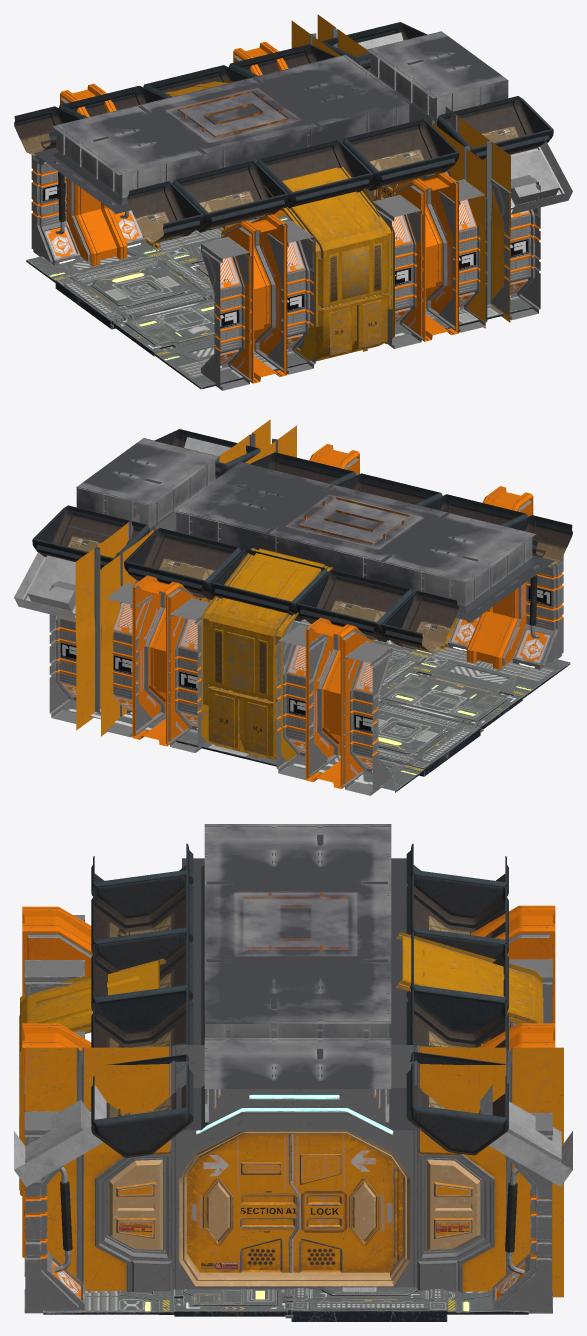
File: compressed-mint.glb
3 renders of one model, top to bottom at view 1: azimuth 30°, elevation 25°; view 2: azimuth 150°, elevation 25°; view 3: azimuth 270°, elevation 25°, orthographic. The views are drawn at different scales.
Visible parts, largest first — view 1: plane, wall_left_01, pCube77, pCube87, pCube86, pCube57, Prop_41, Prop_40, pPlane3, body, pCube56.001, Prop_42 (+29 smaller); view 2: plane, wall_right, pCube77, pCube91, pCube92, body, pPlane3, pCube45, pCube6, Prop_41.001, Prop_40.001, body1 (+29 smaller); view 3: body, plane, door_right, door_right1, pPlane3, pCube77, wall_right, Prop_41, pCube56.001, pCube84.001, body1, Prop_40 (+30 smaller).
Part boxes in pixels (left/top/right/bottom): plane: left=52, top=54, right=412, bottom=175; wall_left_01: left=264, top=166, right=394, bottom=361; pCube77: left=34, top=55, right=409, bottom=213; pCube87: left=221, top=214, right=287, bottom=383; pCube86: left=393, top=172, right=458, bottom=341; pCube57: left=201, top=237, right=251, bottom=390; Prop_41: left=172, top=160, right=288, bottom=232; Prop_40: left=342, top=119, right=459, bottom=190; pPlane3: left=367, top=31, right=507, bottom=98; body: left=317, top=14, right=510, bottom=322; pCube56.001: left=490, top=175, right=540, bottom=320; Prop_42: left=256, top=140, right=373, bottom=211; plane: left=172, top=462, right=535, bottom=583; wall_right: left=201, top=548, right=332, bottom=761; pCube77: left=175, top=462, right=554, bottom=621; pCube91: left=132, top=575, right=198, bottom=746; pCube92: left=305, top=617, right=373, bottom=788; body: left=75, top=419, right=270, bottom=730; pPlane3: left=76, top=438, right=218, bottom=505; pCube45: left=276, top=625, right=327, bottom=779; pCube6: left=343, top=641, right=392, bottom=795; Prop_41.001: left=296, top=569, right=413, bottom=642; Prop_40.001: left=124, top=528, right=241, bottom=599; body1: left=101, top=425, right=296, bottom=736; body: left=25, top=1060, right=563, bottom=1297; plane: left=204, top=824, right=391, bottom=1023; door_right: left=293, top=1134, right=402, bottom=1272; door_right1: left=187, top=1134, right=297, bottom=1272; pPlane3: left=204, top=1038, right=391, bottom=1088; pCube77: left=182, top=826, right=408, bottom=1044; wall_right: left=396, top=932, right=543, bottom=1023; Prop_41: left=91, top=874, right=193, bottom=970; pCube56.001: left=24, top=1111, right=84, bottom=1313; pCube84.001: left=492, top=1113, right=552, bottom=1313; body1: left=25, top=1045, right=563, bottom=1271; Prop_40: left=91, top=990, right=193, bottom=1047.
Bounding box in the file's own units: 14.21 × 6.22 × 12.14.
Materials: 8 (8 with a texture image).
